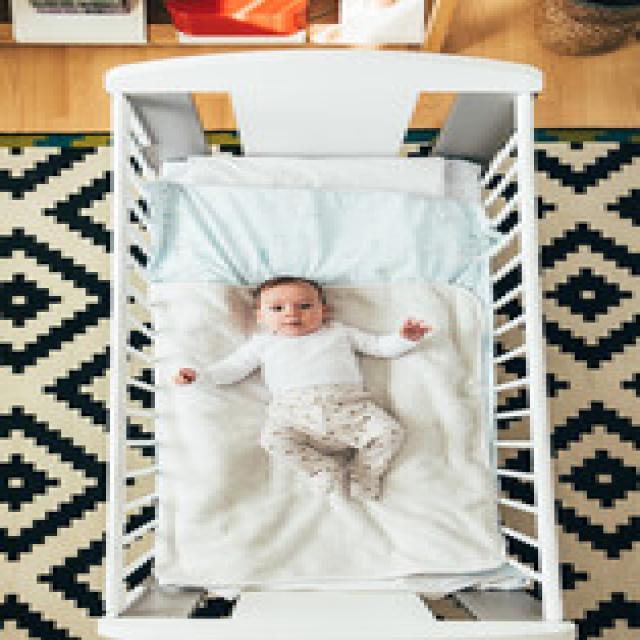baby: (171, 272, 432, 504)
crib: (94, 45, 575, 638)
